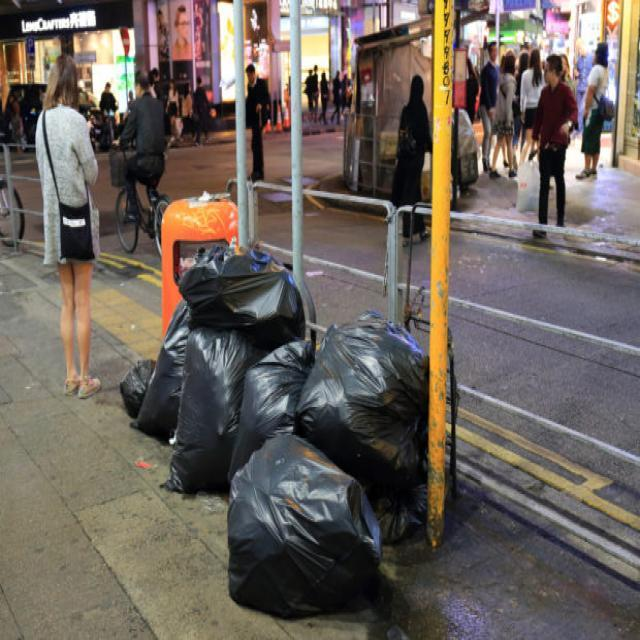garbage: (120, 202, 438, 637)
